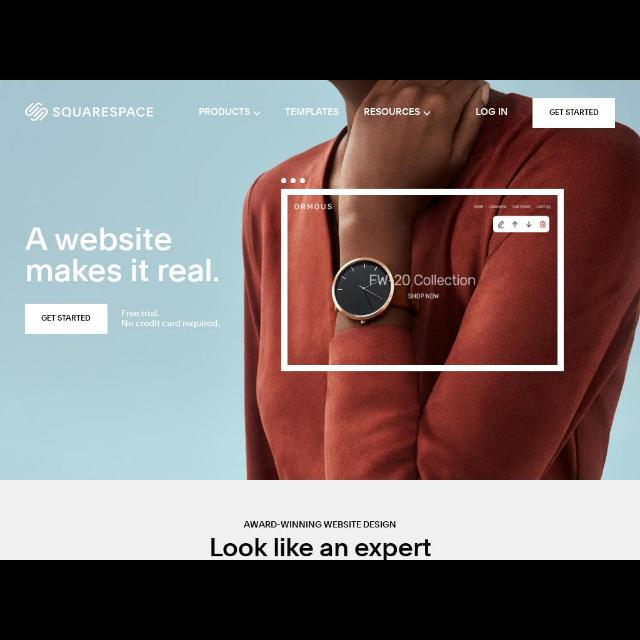backgroundimage: (1, 80, 640, 480)
icon: (252, 110, 262, 116), (422, 110, 432, 116)
image: (24, 102, 154, 121)
multitab: (189, 103, 521, 123)
spinner: (362, 108, 432, 119), (198, 107, 262, 117)
text: (23, 227, 220, 285), (211, 538, 433, 558), (121, 309, 221, 329), (244, 519, 396, 531), (364, 108, 421, 116), (284, 108, 340, 116), (199, 108, 251, 116), (476, 107, 508, 117)
textbutton: (533, 98, 615, 128), (25, 304, 107, 334)
